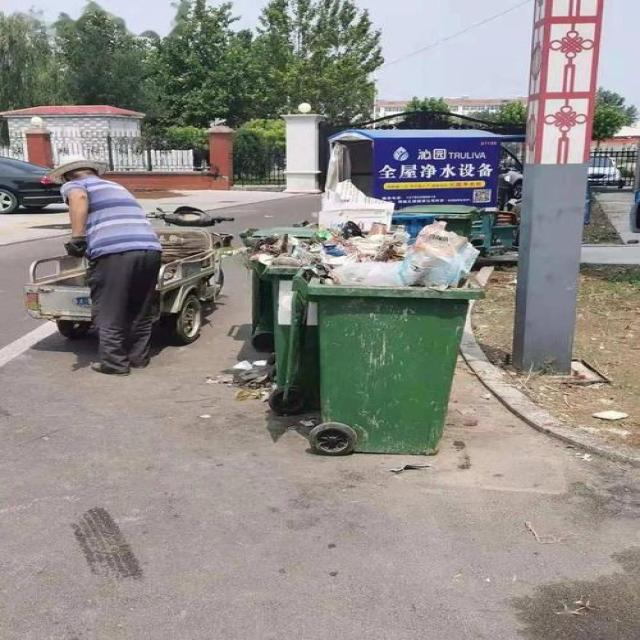garbage: (206, 352, 274, 401)
overflow: (254, 180, 491, 454)
